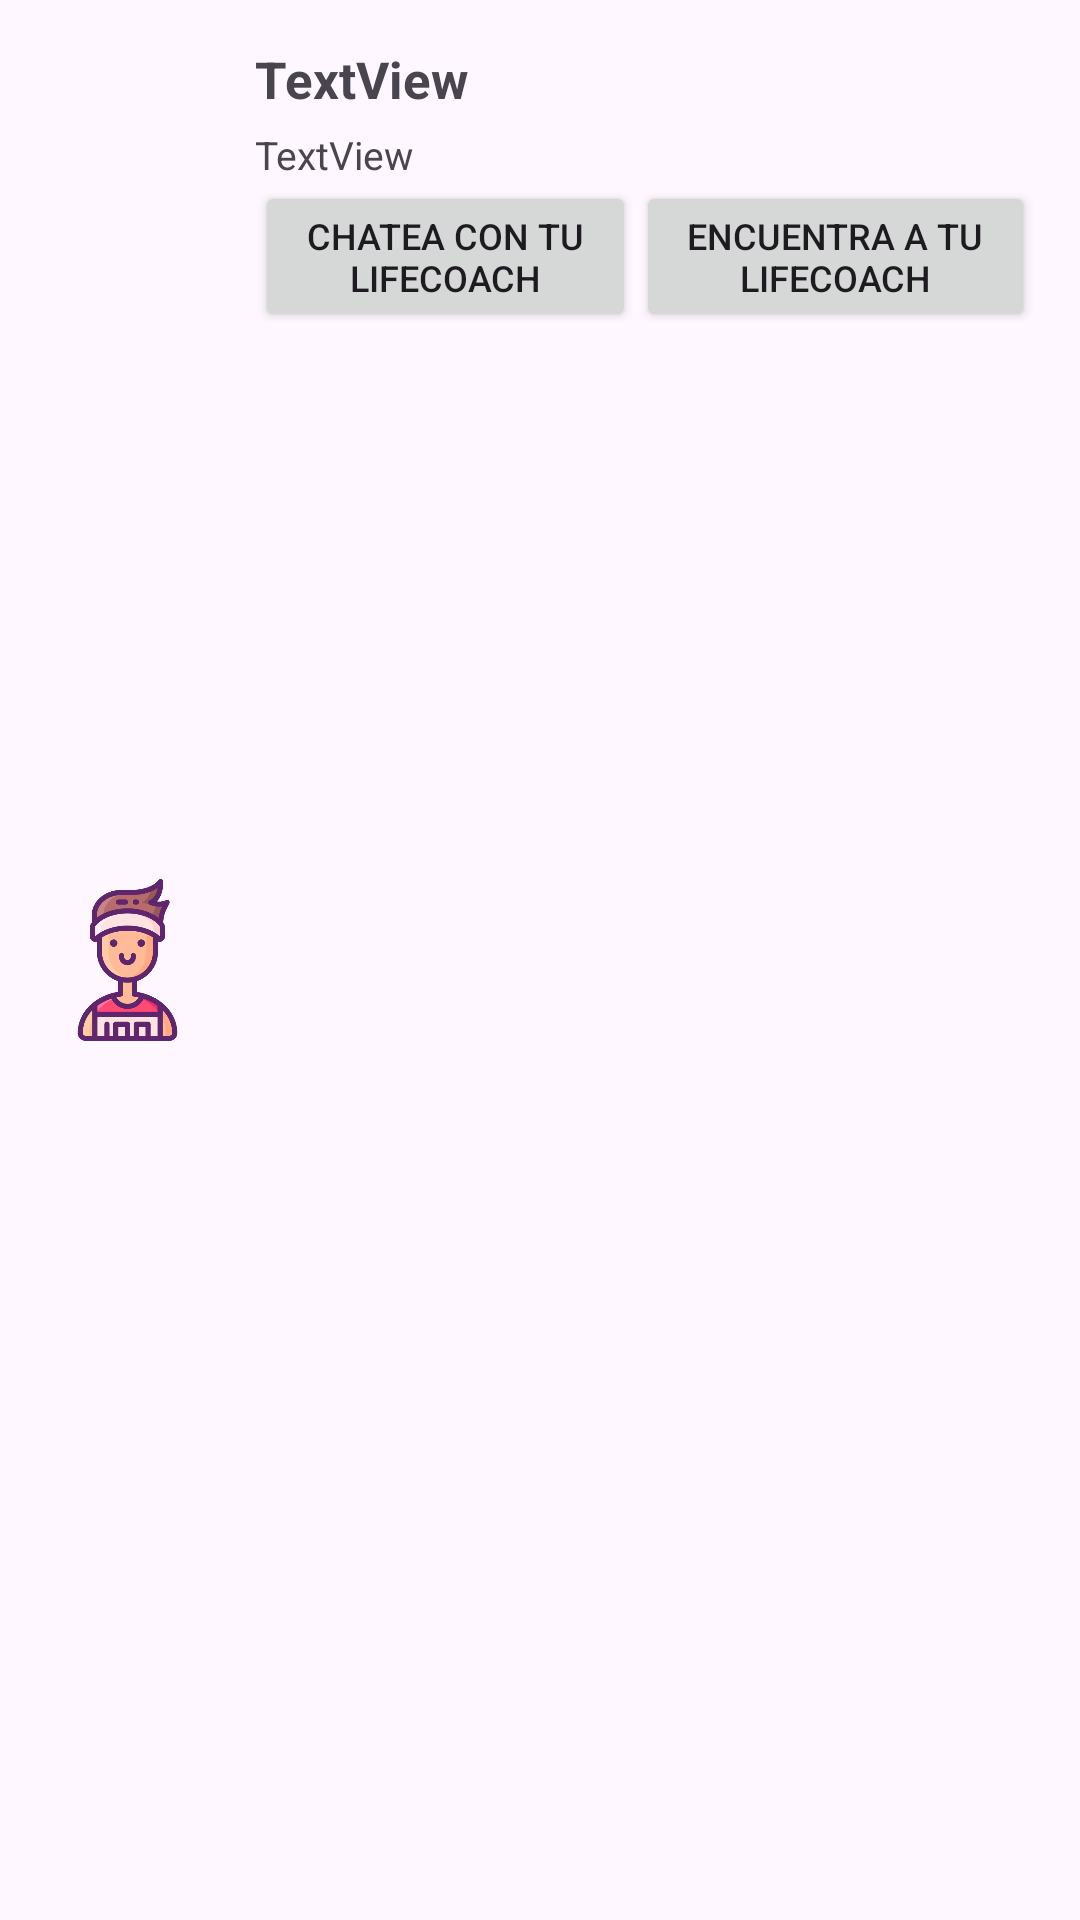

Icon click points for this 1080px x 1920px phone screenshot, format [x,y]:
usuario: [127,960]
